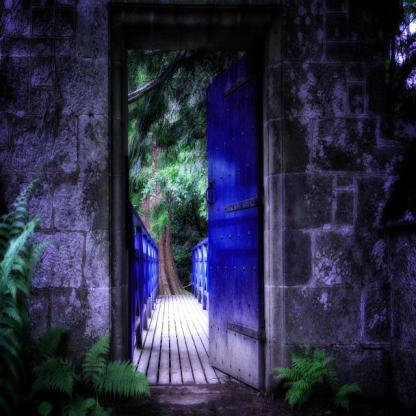door: (108, 11, 276, 395)
